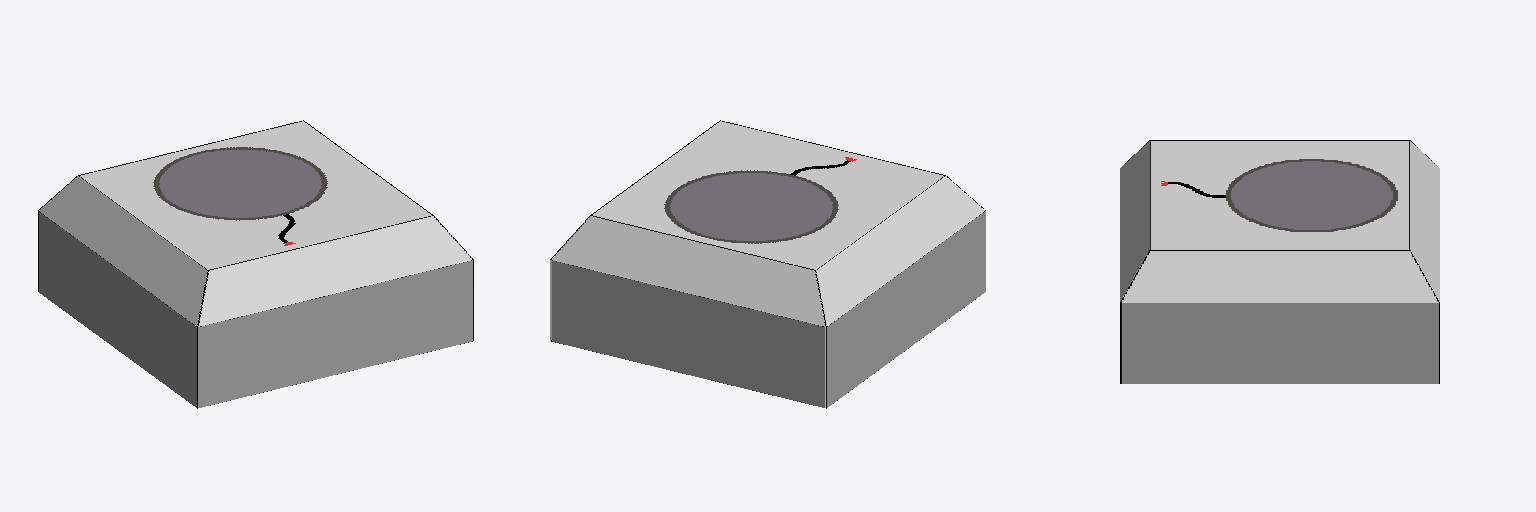
3 renders of one model, left to right at view 1: azimuth 30°, elevation 25°; view 2: azimuth 150°, elevation 25°; view 3: azimuth 270°, elevation 25°, orthographic.
Parts seen in each view (by area): view 1: Cube; view 2: Cube; view 3: Cube.
Boxes of the visible parts, x1=… form: Cube: x1=38, y1=120, x2=473, y2=408; Cube: x1=550, y1=120, x2=985, y2=408; Cube: x1=1120, y1=140, x2=1439, y2=383.
Size of the model in its own units: 2 by 0.8355 by 2.
Materials: 1 (1 with a texture image).